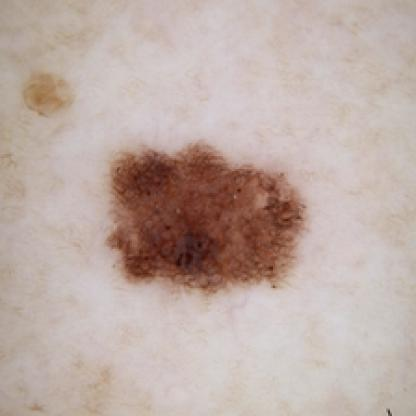benign: (15, 69, 360, 293)
